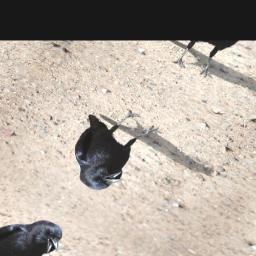Crow: (45, 97, 168, 197)
